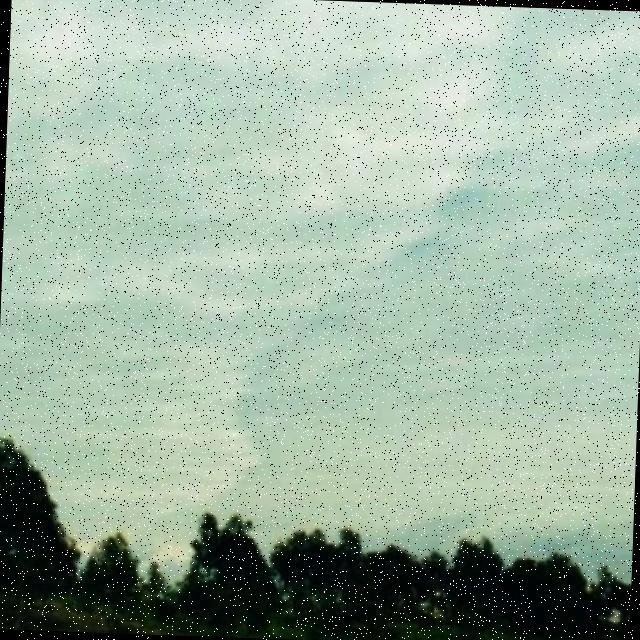St: (1, 1, 640, 401)
